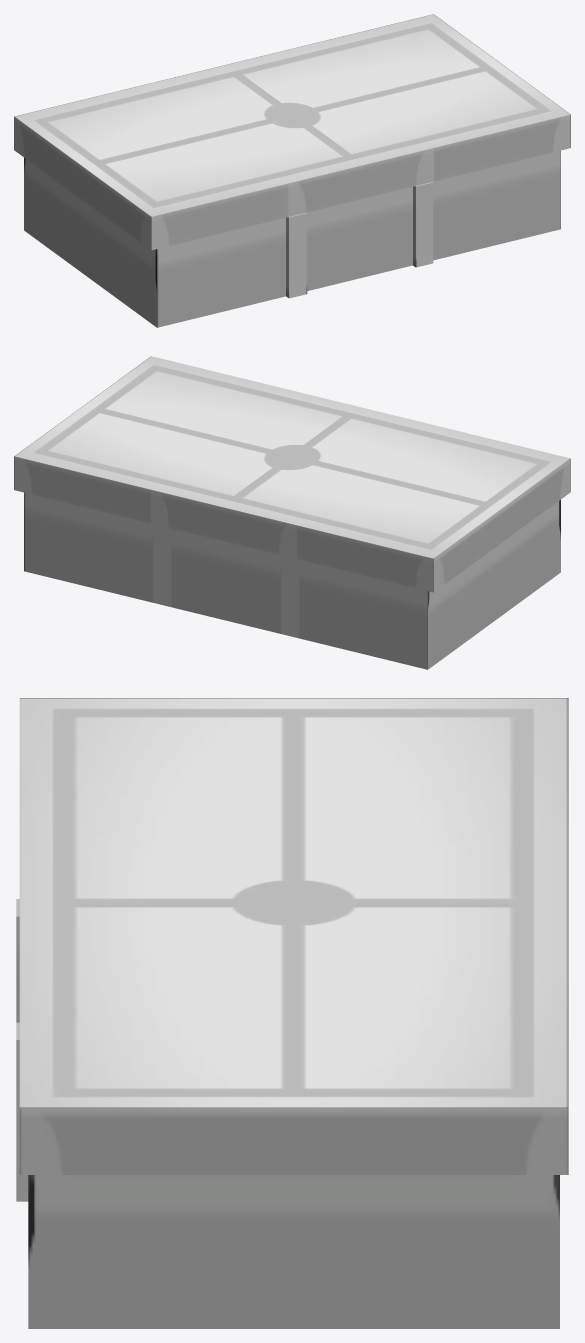
File: Building_Altar_Large.obj
3 renders of one model, top to bottom at view 1: azimuth 30°, elevation 25°; view 2: azimuth 150°, elevation 25°; view 3: azimuth 270°, elevation 25°, orthographic. The views are drawn at different scales.
Parts seen in each view (by area): view 1: Body; view 2: Body; view 3: Body.
Part boxes in pixels (x1,y1,x2,y2): Body: [14, 14, 570, 327]; Body: [14, 356, 570, 669]; Body: [16, 698, 568, 1328].
Bounding box in the file's own units: 2.88 × 0.75 × 1.64.
Materials: 1 (1 with a texture image).
